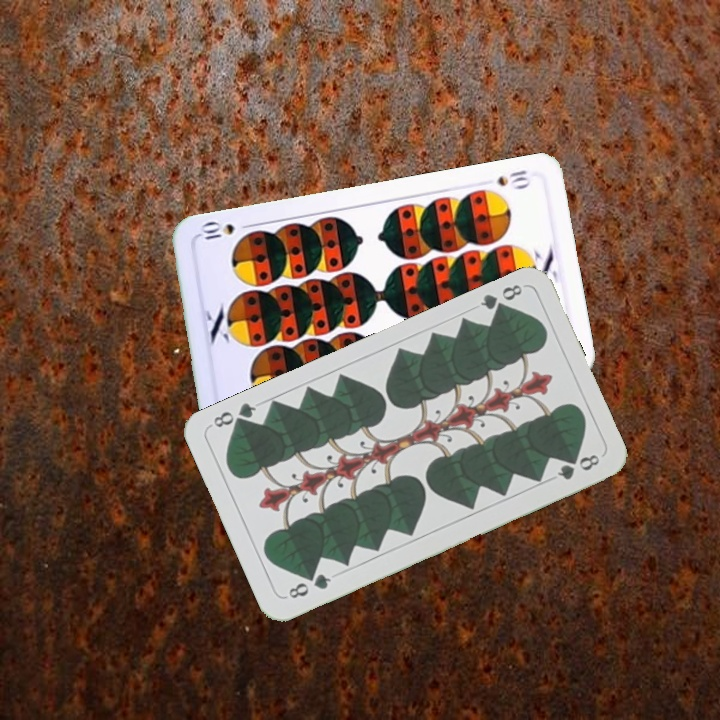G8: (476, 280, 525, 317), (281, 569, 334, 601)
S10: (493, 165, 532, 191)
